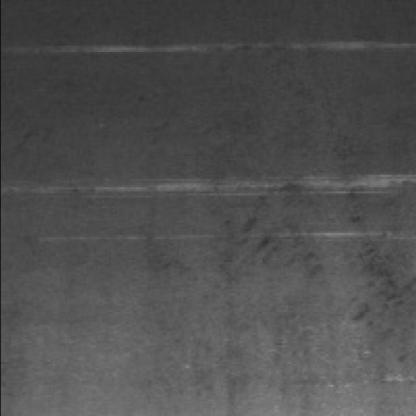scratches: (31, 177, 416, 204), (17, 42, 416, 60)
